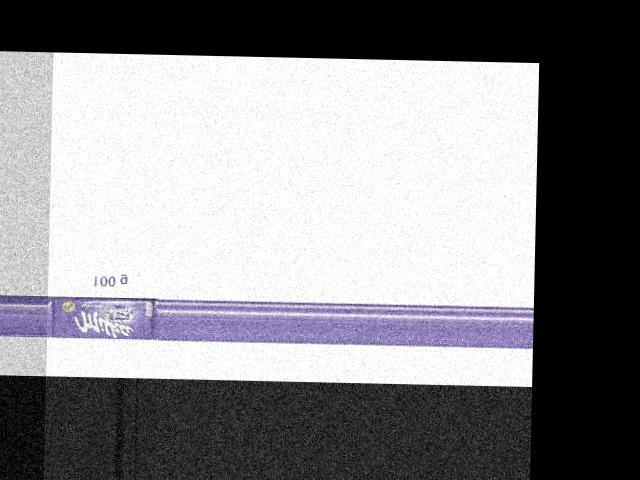chocolate: (50, 288, 160, 340)
